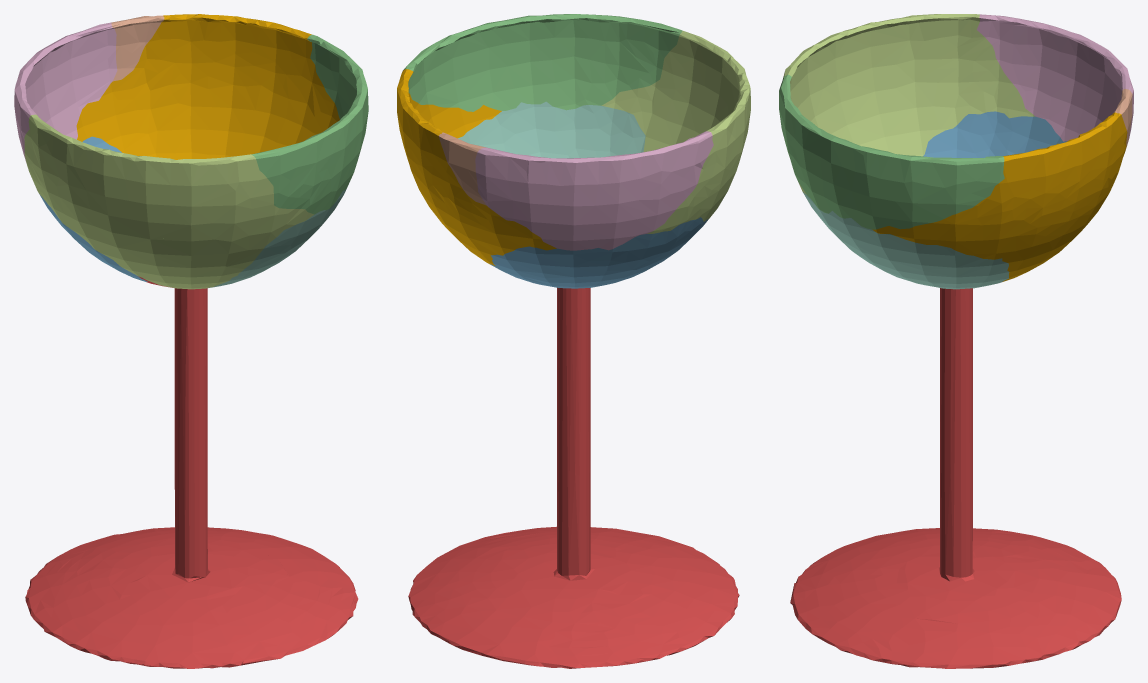
Rendered from mode_14_8pcs.glb.
3 renders of one model, left to right at view 1: azimuth 30°, elevation 25°; view 2: azimuth 150°, elevation 25°; view 3: azimuth 270°, elevation 25°, orthographic.
Parts seen in each view (by area): view 1: piece_1.obj, piece_0.obj, piece_5.obj, piece_3.obj, piece_6.obj, piece_4.obj, piece_7.obj, piece_2.obj; view 2: piece_1.obj, piece_3.obj, piece_6.obj, piece_5.obj, piece_0.obj, piece_4.obj, piece_2.obj, piece_7.obj; view 3: piece_1.obj, piece_5.obj, piece_0.obj, piece_3.obj, piece_6.obj, piece_4.obj, piece_2.obj.
Part boxes in pixels (<box>): piece_1.obj: <box>25,276,358,668</box>; piece_0.obj: <box>76,14,339,159</box>; piece_5.obj: <box>24,114,314,289</box>; piece_3.obj: <box>251,34,368,214</box>; piece_6.obj: <box>14,22,117,160</box>; piece_4.obj: <box>207,188,346,288</box>; piece_7.obj: <box>111,15,164,81</box>; piece_2.obj: <box>39,136,147,281</box>; piece_1.obj: <box>408,287,739,668</box>; piece_3.obj: <box>403,14,682,111</box>; piece_6.obj: <box>475,131,713,250</box>; piece_5.obj: <box>601,31,750,233</box>; piece_0.obj: <box>397,69,556,265</box>; piece_4.obj: <box>458,101,645,158</box>; piece_2.obj: <box>489,217,708,288</box>; piece_7.obj: <box>438,132,486,205</box>; piece_1.obj: <box>790,288,1121,668</box>; piece_5.obj: <box>783,14,1034,194</box>; piece_0.obj: <box>872,112,1127,281</box>; piece_3.obj: <box>779,74,1004,229</box>; piece_6.obj: <box>977,14,1133,141</box>; piece_4.obj: <box>803,192,1009,289</box>; piece_2.obj: <box>923,111,1067,157</box>.
Size of the model in its own units: 0.6244 by 1 by 0.6242.
